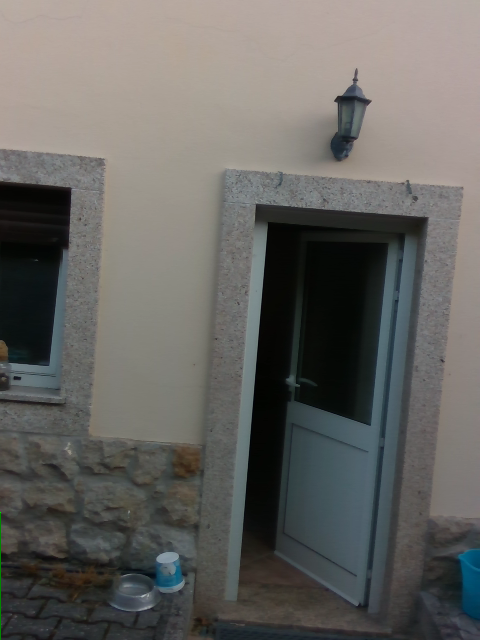semi: (215, 200, 434, 619)
